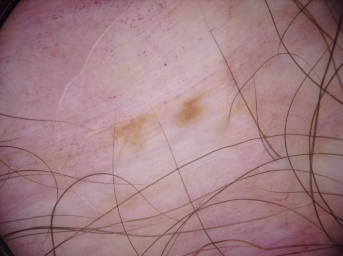melanoma: (111, 116, 160, 158), (176, 95, 204, 125)
